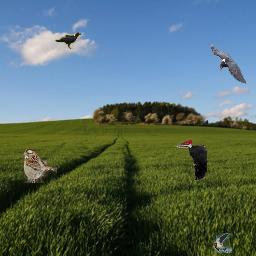Crow: (211, 44, 246, 84), (55, 32, 81, 49)
Sparrow: (22, 148, 57, 183)
Swallow: (214, 233, 232, 253)
Woodpecker: (175, 140, 207, 180)
